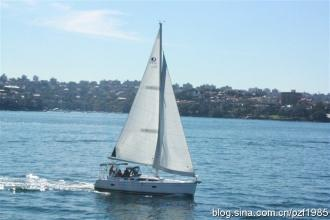fanchuan: (95, 21, 201, 193)
